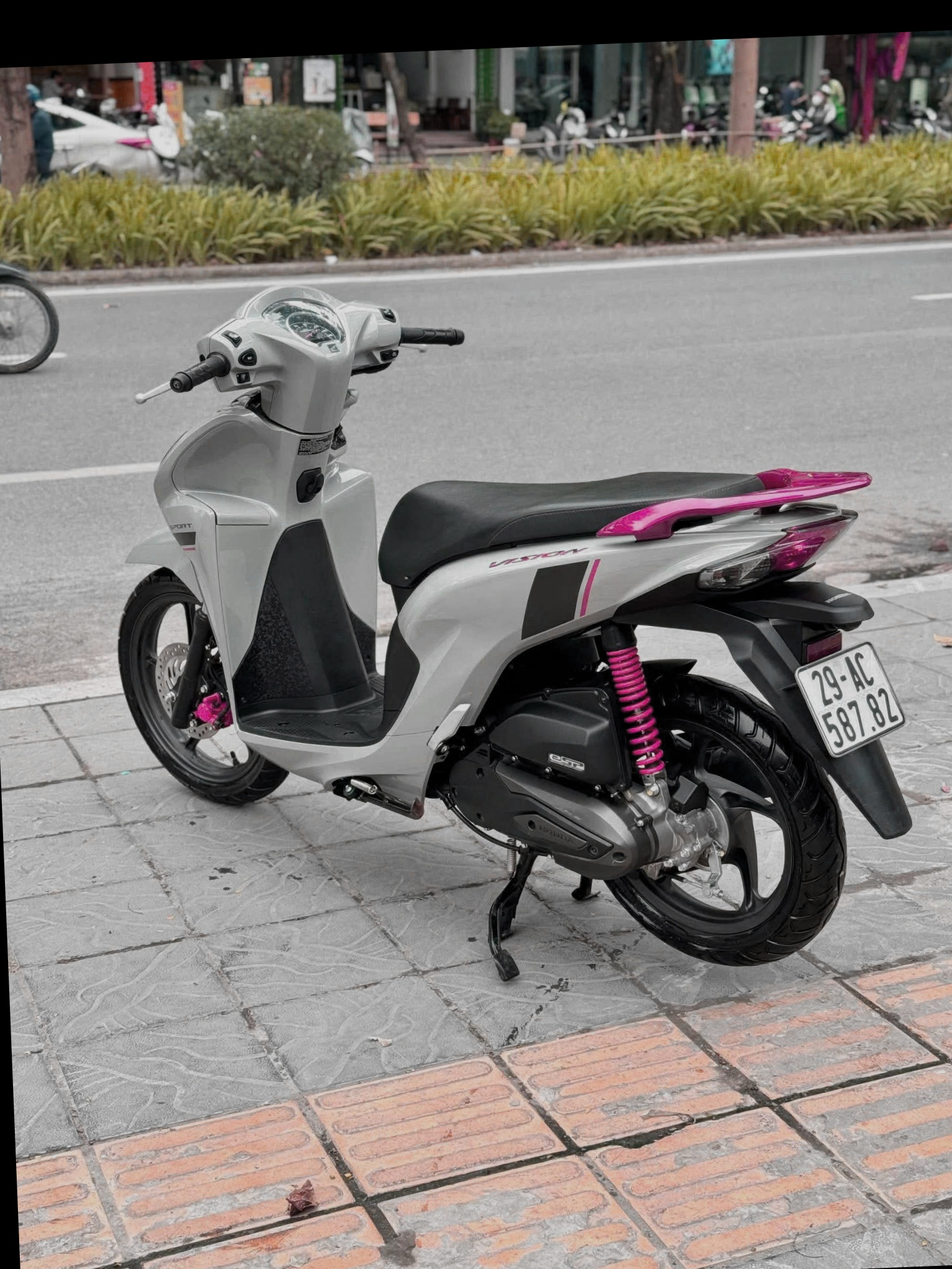Bien-so: (792, 645, 905, 764)
